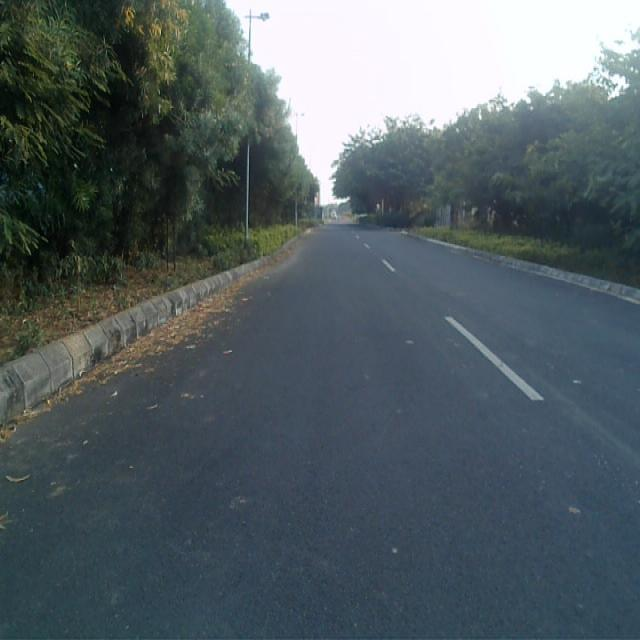lane: (0, 231, 640, 640)
